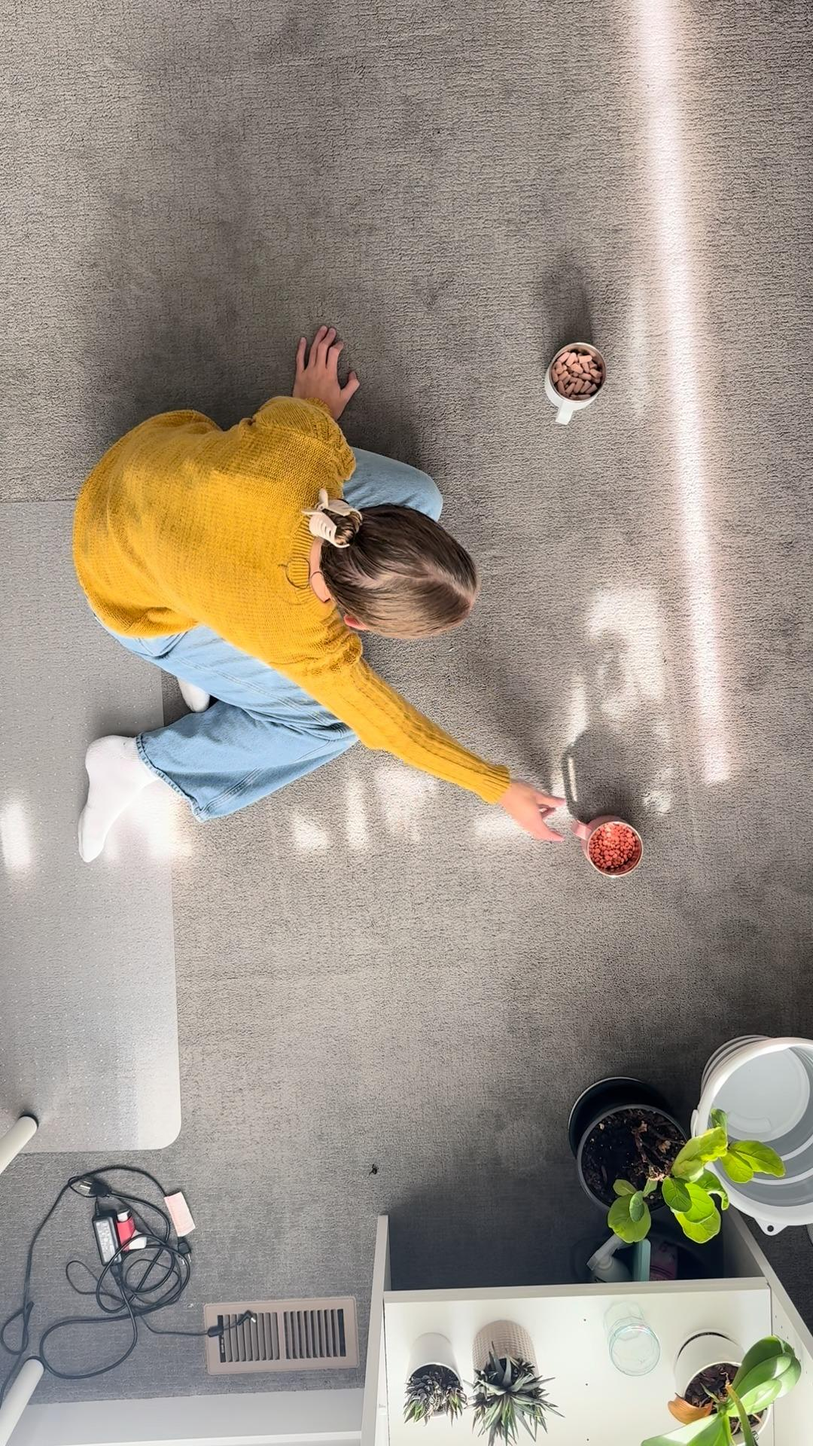IBC: (562, 801, 660, 886), (539, 329, 613, 431)
